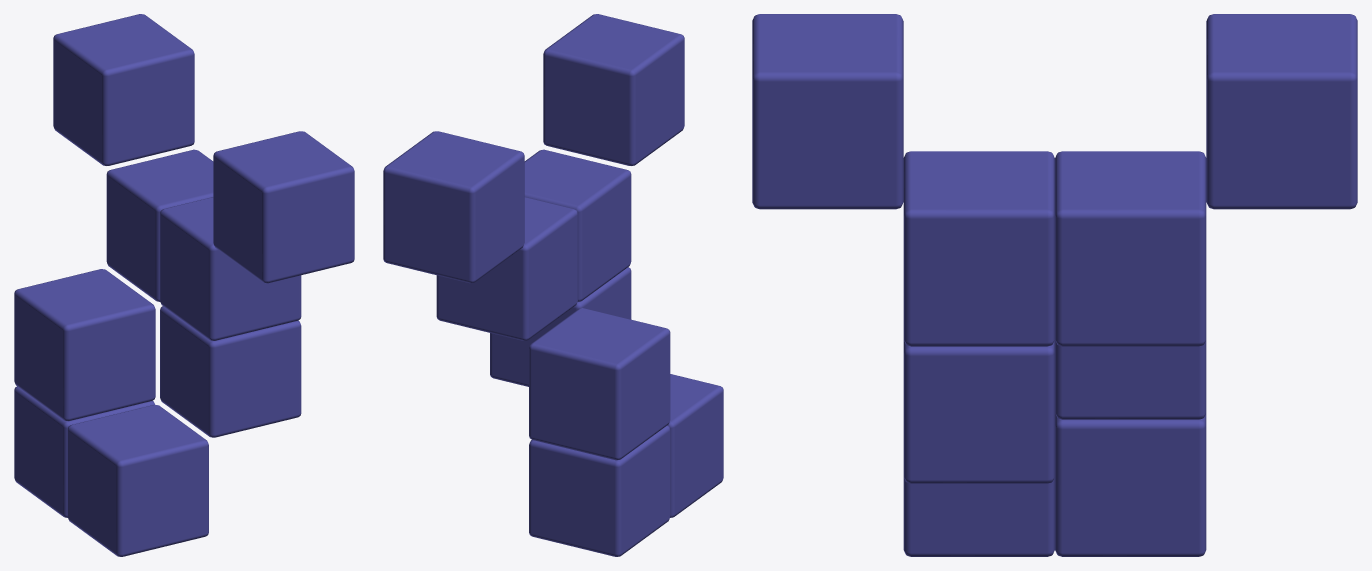
File: LevelExit.glb
3 views of the same model, side by side, from view 1: azimuth 30°, elevation 25°; view 2: azimuth 150°, elevation 25°; view 3: azimuth 270°, elevation 25° (orthographic). The views are drawn at different scales.
Bounding box in the file's own units: 6 × 12 × 12.
